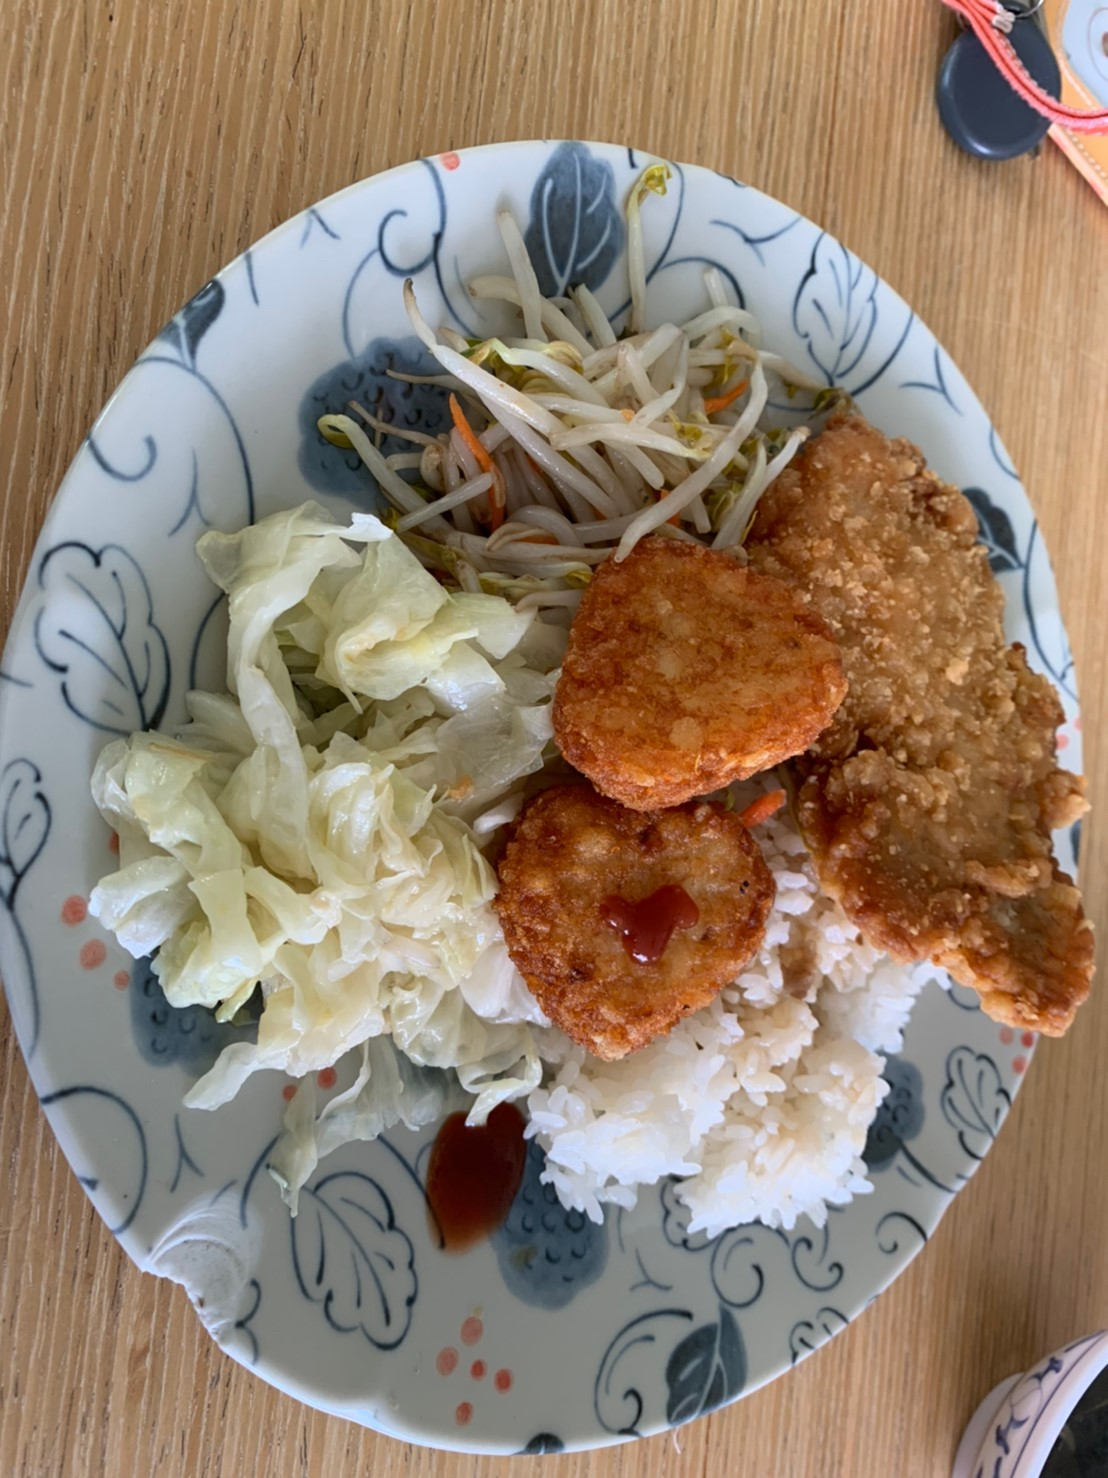chinese_cabbage: (201, 573, 492, 1026)
fried_chicken: (765, 448, 1077, 986)
mung_bean_sprouts: (459, 324, 734, 531)
rice: (551, 968, 905, 1208)
triangle_hash_brown: (510, 562, 797, 1010)
